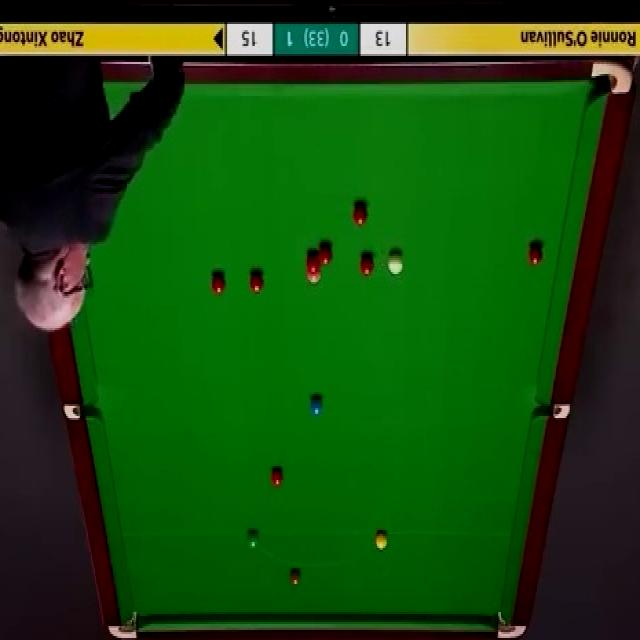blue-ball: (310, 396, 325, 418)
brown-ball: (289, 568, 302, 588)
green-ball: (247, 530, 260, 551)
pink-ball: (306, 270, 322, 284)
red-ball: (528, 240, 544, 268), (269, 466, 286, 488), (249, 271, 265, 294), (360, 254, 375, 276), (303, 256, 321, 274), (212, 272, 226, 295), (354, 203, 368, 225), (318, 248, 332, 264)
white-ball: (387, 251, 404, 276)
yellow-ball: (375, 531, 388, 552)
